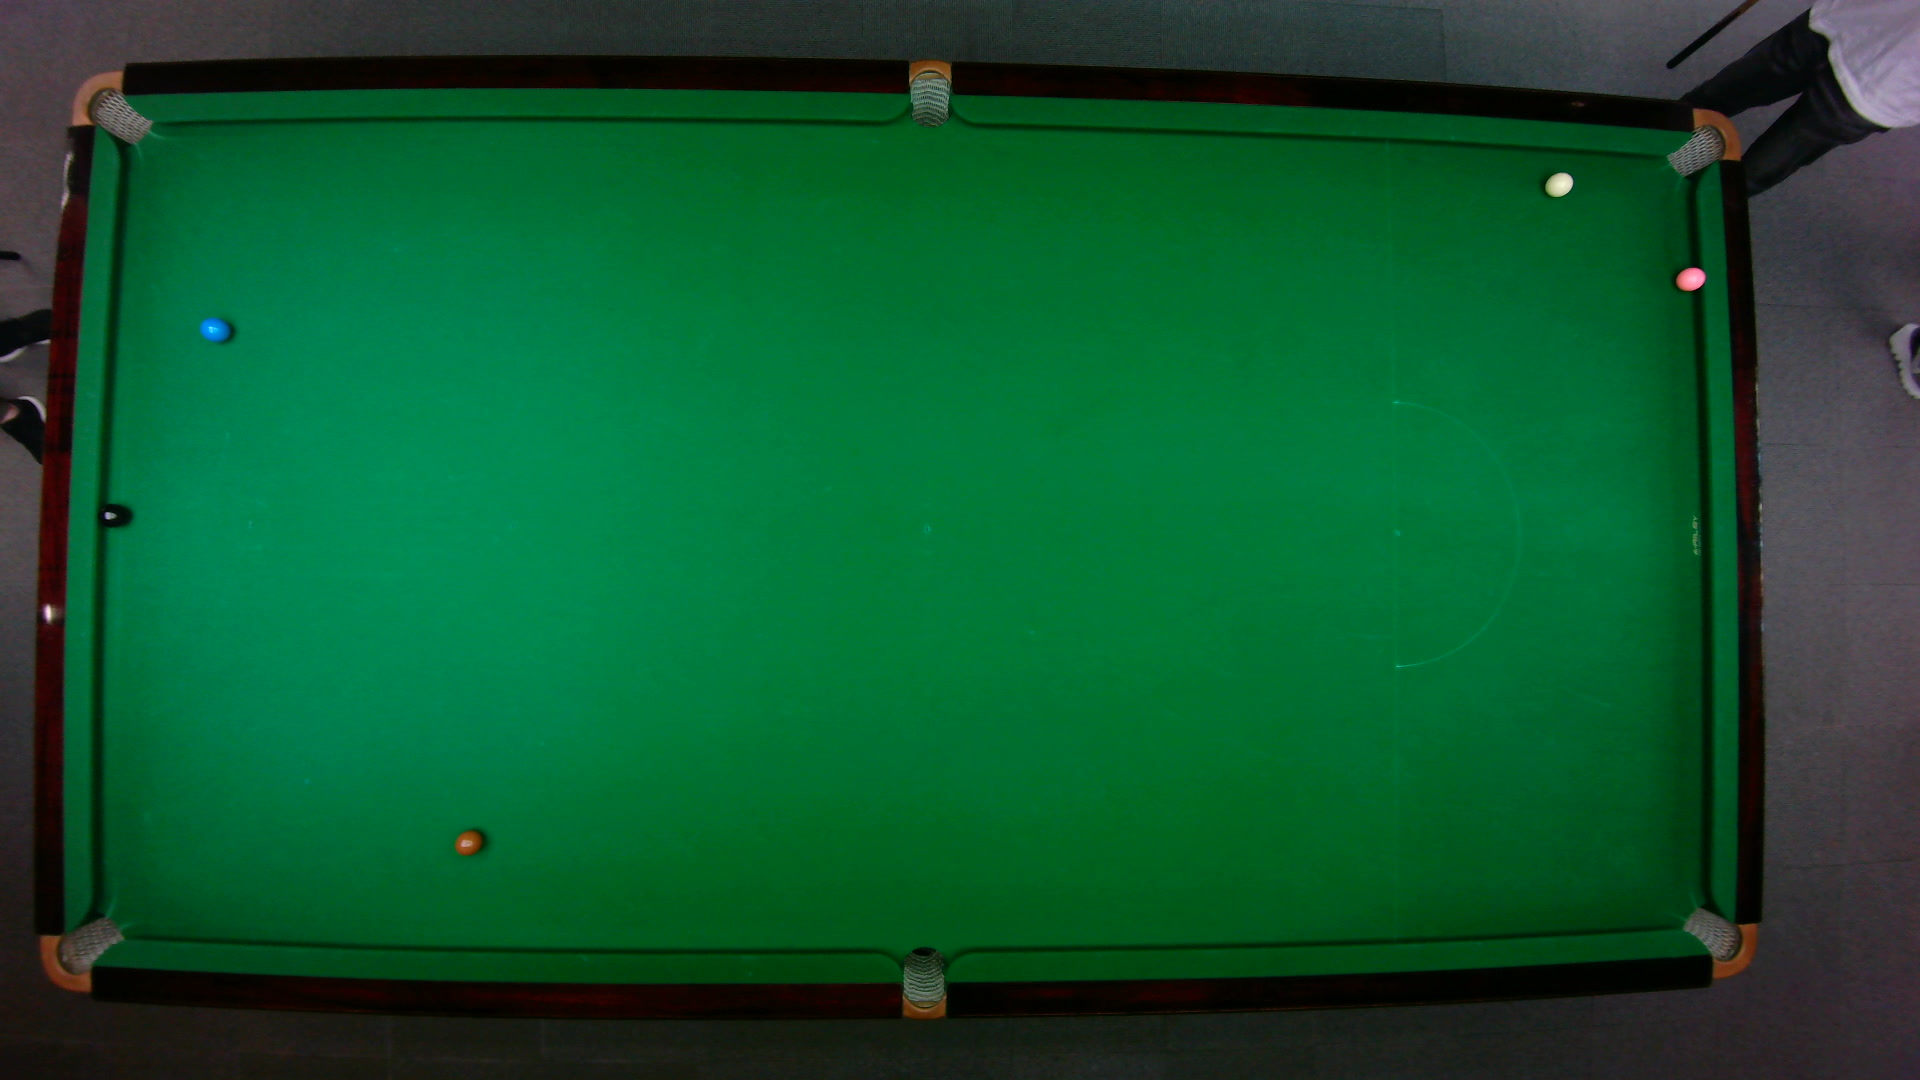bag: (38, 914, 125, 992), (69, 69, 152, 145), (1679, 905, 1756, 978), (1663, 107, 1741, 178), (901, 944, 944, 1021), (909, 57, 949, 128)
black: (96, 502, 127, 527)
blue: (198, 315, 231, 342)
brown: (452, 827, 483, 856)
pink: (1673, 265, 1706, 291)
white: (1543, 170, 1575, 196)
zone: (1390, 400, 1520, 669)
